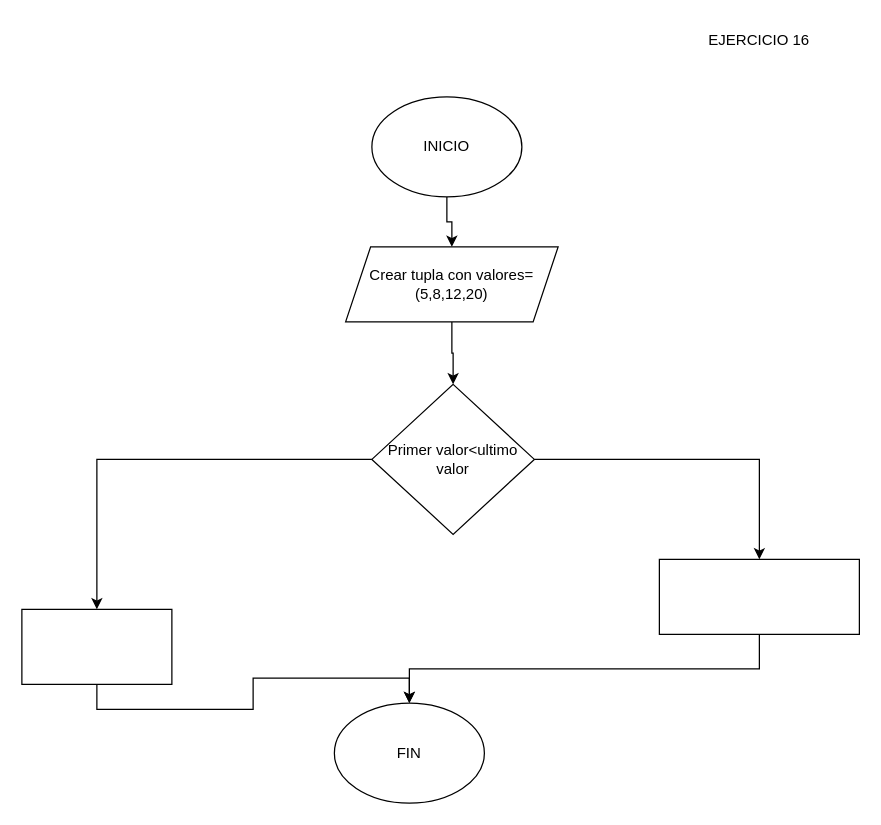
Image size: 881x825. Some labels were removed from this diagram. The box of each missing label's shape, as (x1, y1, x2, y2) in pixels:
Orden ascendente: (21, 608, 172, 684)
Orden descendente: (658, 558, 859, 634)
